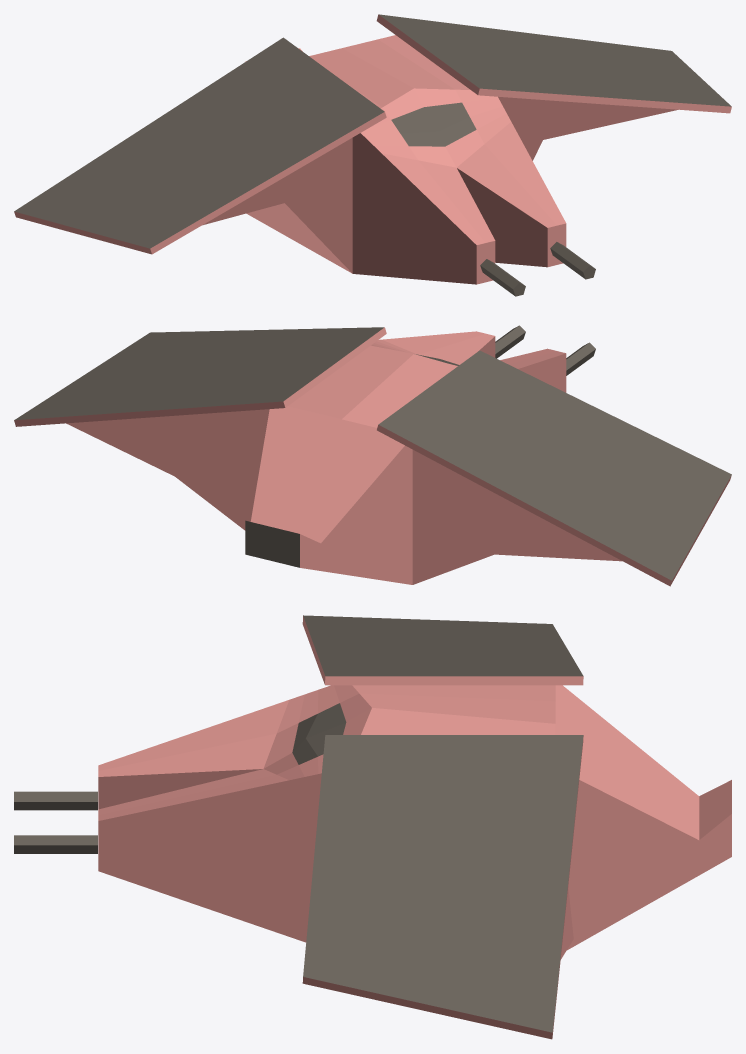
The model's file is Spaceship 2.glb.
The picture shows the model from 3 angles, top to bottom: view 1: azimuth 30°, elevation 25°; view 2: azimuth 150°, elevation 25°; view 3: azimuth 270°, elevation 25°; orthographic projection. The views are drawn at different scales.
Parts seen in each view (by area): view 1: Cube; view 2: Cube; view 3: Cube.
Part boxes in pixels (x1,y1,x2,y2): Cube: [14, 14, 731, 296]; Cube: [14, 325, 731, 586]; Cube: [14, 615, 731, 1039].
Size of the model in its own units: 9.28 by 2.19 by 6.89.
